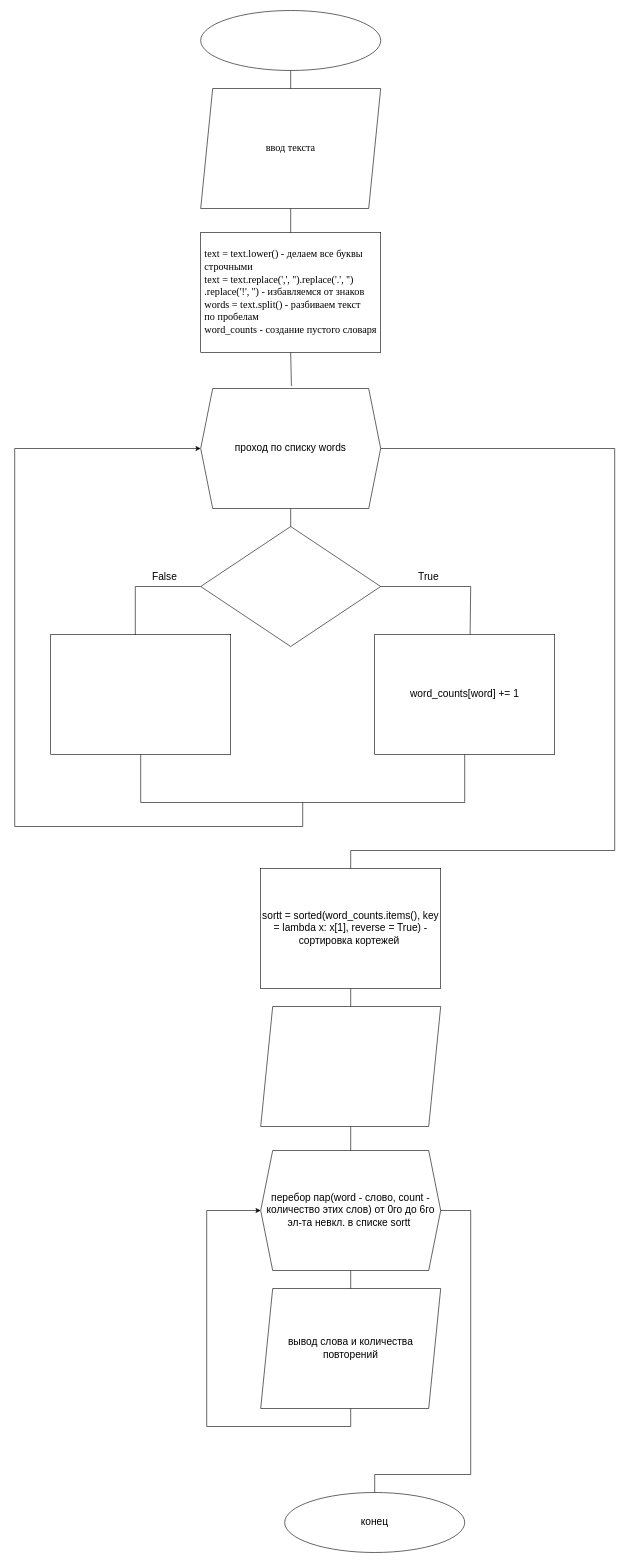
Some shapes in this 626 by 1563 pixel diagram are drawn without their labels. Each missing label, with the box of its shape:
word_counts[word] = 1: (50, 634, 231, 754)
вывод шапки "топ-5 самых частых слов": (260, 1006, 441, 1126)
начало: (200, 10, 381, 70)
элемент списка word в словаре word_counts?: (200, 526, 381, 646)
